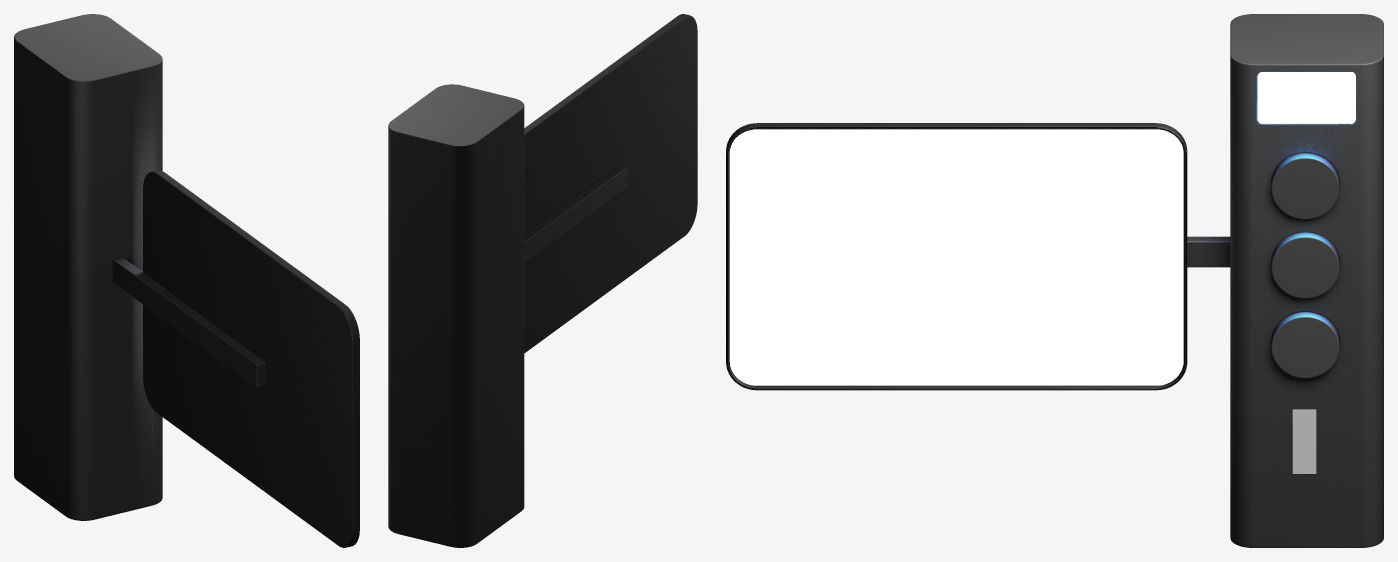
File: arc-draco.glb
3 views of the same model, side by side, from view 1: azimuth 30°, elevation 25°; view 2: azimuth 150°, elevation 25°; view 3: azimuth 270°, elevation 25° (orthographic). The views are drawn at different scales.
Parts seen in each view (by area): view 1: Cube, Plane, Plane.002; view 2: Cube, Plane, Plane.002; view 3: screen, Cube, Plane, Slice, Slice.003, Slice.001, Slice.002, Example Sheet_033, Plane.002.
Boxes of the visible parts, x1,y1,x2,y2 form: Cube: [14, 14, 162, 520]; Plane: [143, 170, 359, 547]; Plane.002: [113, 257, 266, 387]; Cube: [388, 84, 524, 547]; Plane: [524, 14, 697, 353]; Plane.002: [524, 164, 627, 263]; screen: [729, 129, 1183, 385]; Cube: [1230, 14, 1383, 547]; Plane: [726, 123, 1187, 390]; Slice: [1257, 72, 1355, 123]; Slice.003: [1271, 311, 1339, 378]; Slice.001: [1271, 153, 1339, 219]; Slice.002: [1271, 232, 1339, 298]; Example Sheet_033: [1292, 409, 1316, 473]; Plane.002: [1187, 236, 1230, 267].
Size of what is drawn, in the model's own units: 0.7059 by 2.88 by 3.55.
Materials: 8 (5 with a texture image).
